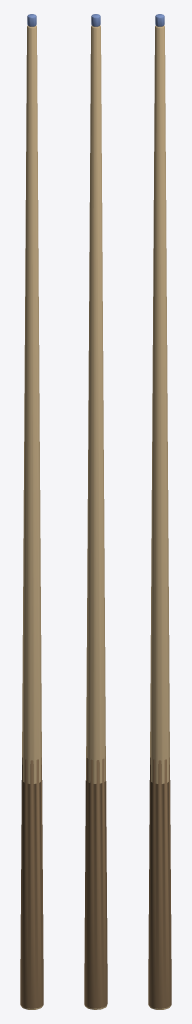
The model's file is cue.glb.
3 renders of one model, left to right at view 1: azimuth 90°, elevation 25°; view 2: azimuth 210°, elevation 25°; view 3: azimuth 270°, elevation 25°, orthographic.
Visible parts, largest first — view 1: boat_cue, boat_wood2; view 2: boat_cue, boat_wood2; view 3: boat_cue, boat_wood2.
Part boxes in pixels (left/top/right/bottom): boat_cue: left=20, top=25, right=43, bottom=1009; boat_wood2: left=20, top=757, right=43, bottom=1008; boat_cue: left=84, top=25, right=106, bottom=1009; boat_wood2: left=84, top=756, right=107, bottom=1008; boat_cue: left=148, top=25, right=171, bottom=1009; boat_wood2: left=148, top=757, right=171, bottom=1008.
Size of the model in its own units: 0.0313 by 1.46 by 0.0315.
